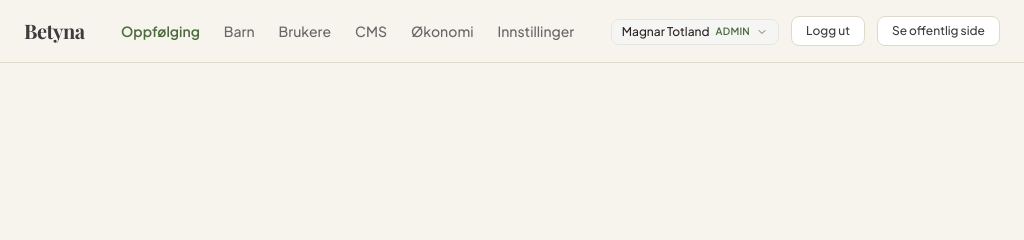
Test: Navbar «Vis som»-meny for admin › åpner menyen og bytter til Fadderportal
Click the button with aria-label "Innlogget som Magnar Totland, Admin" at (695, 32), box x1=611 y1=18 x2=779 y2=44
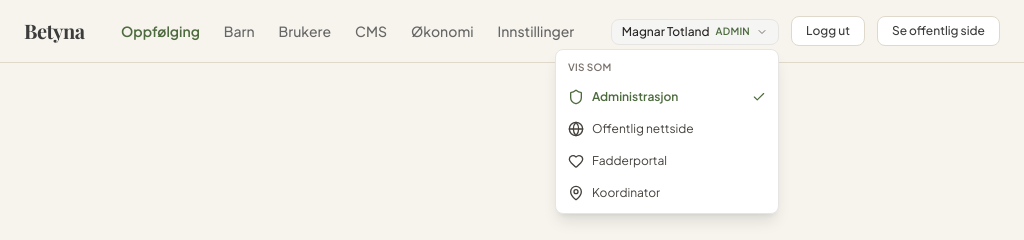
Expected: the menu is shown, x1=555 y1=48 x2=779 y2=214
Expected: the text "Vis som" is shown, x1=568 y1=60 x2=612 y2=72
Click the menu item "Fadderportal" at (667, 160), box x1=556 y1=144 x2=778 y2=176
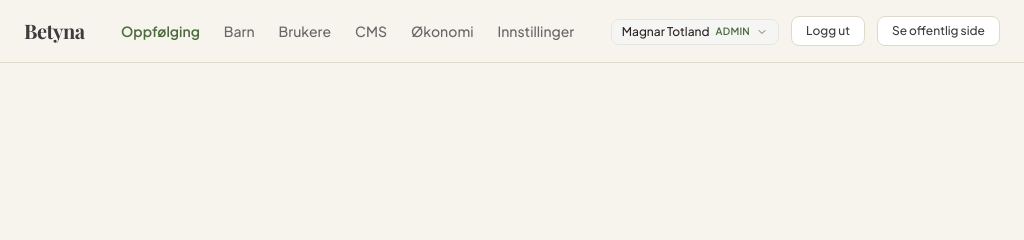
Expected: the menu is gone
